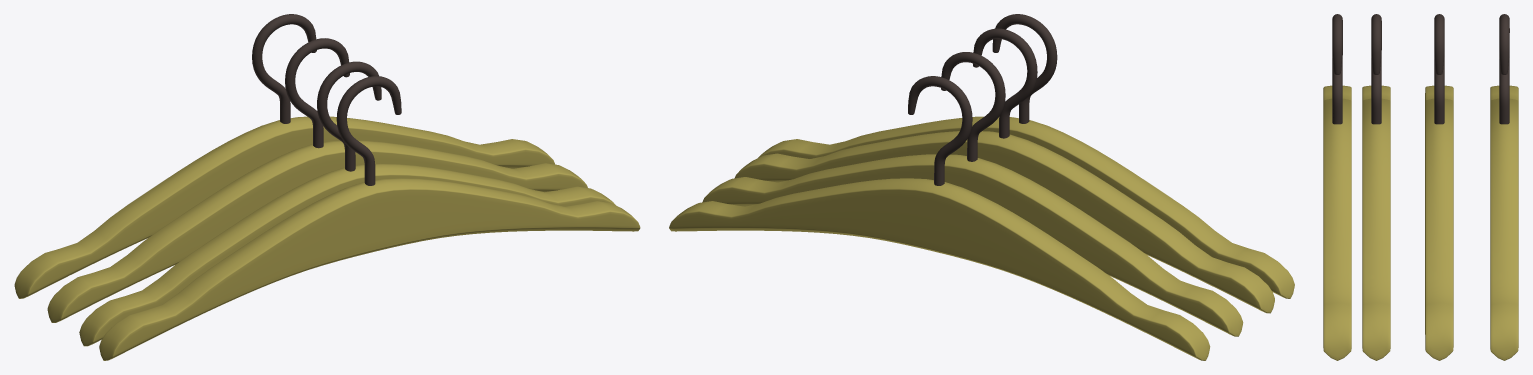
Rendered from PROP_RoupasPend_3.fbx.
3 views of the same model, side by side, from view 1: azimuth 30°, elevation 25°; view 2: azimuth 150°, elevation 25°; view 3: azimuth 270°, elevation 25° (orthographic).
Visible parts, largest first — view 1: Corpo, Corpo3, Corpo2, Corpo1, Arame, Arame3, Arame2, Arame1; view 2: Corpo3, Corpo2, Corpo1, Corpo, Arame3, Arame2, Arame1, Arame; view 3: Corpo2, Corpo3, Corpo, Corpo1, Arame3, Arame, Arame1, Arame2.
Boxes of the visible parts, x1,y1,x2,y2 form: Corpo: (99, 178, 640, 360); Corpo3: (14, 116, 555, 298); Corpo2: (47, 140, 587, 322); Corpo1: (79, 163, 615, 346); Arame: (336, 76, 401, 185); Arame3: (252, 14, 316, 123); Arame2: (285, 38, 349, 148); Arame1: (317, 61, 381, 171); Corpo3: (669, 178, 1210, 360); Corpo2: (702, 154, 1243, 336); Corpo1: (735, 131, 1274, 313); Corpo: (758, 116, 1294, 298); Arame3: (908, 76, 972, 185); Arame2: (941, 52, 1005, 161); Arame1: (973, 28, 1037, 138); Arame: (992, 14, 1057, 123); Corpo2: (1425, 85, 1453, 360); Corpo3: (1490, 85, 1518, 360); Corpo: (1323, 85, 1351, 360); Corpo1: (1362, 85, 1390, 360); Arame3: (1499, 14, 1509, 124); Arame: (1332, 14, 1342, 124); Arame1: (1371, 14, 1381, 124); Arame2: (1434, 14, 1444, 124).
Size of the model in its own units: 4.64 by 1.82 by 1.5.
